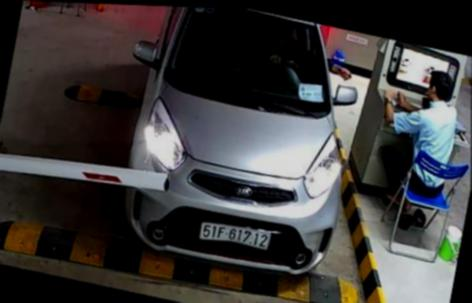License_Plate: (195, 211, 278, 256)
